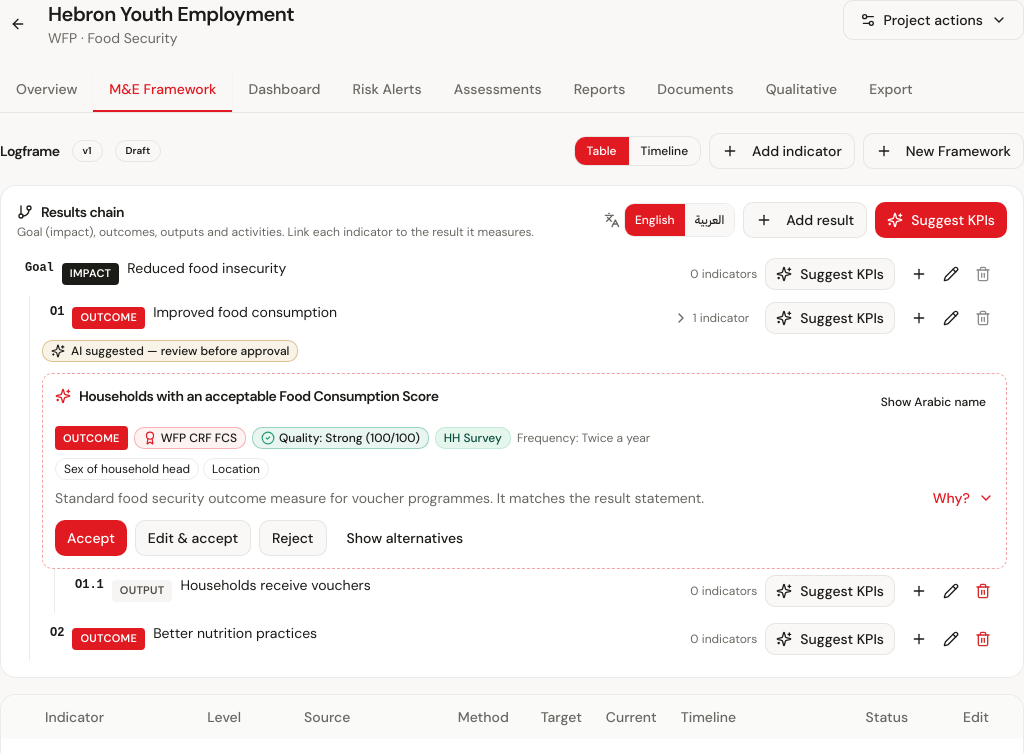
Test: Project page: the KPI Assistant on an archived project › a Suggest KPIs request refused with 409 project_archived shows the archived message under the result
This screenshot has width=1024, height=753.
Expected: the heading "Hebron Youth Employment" is shown, [48,0,294,28]
Click the button with aria-label "Suggest KPIs for O2" at (830, 639), box [765,623,895,655]
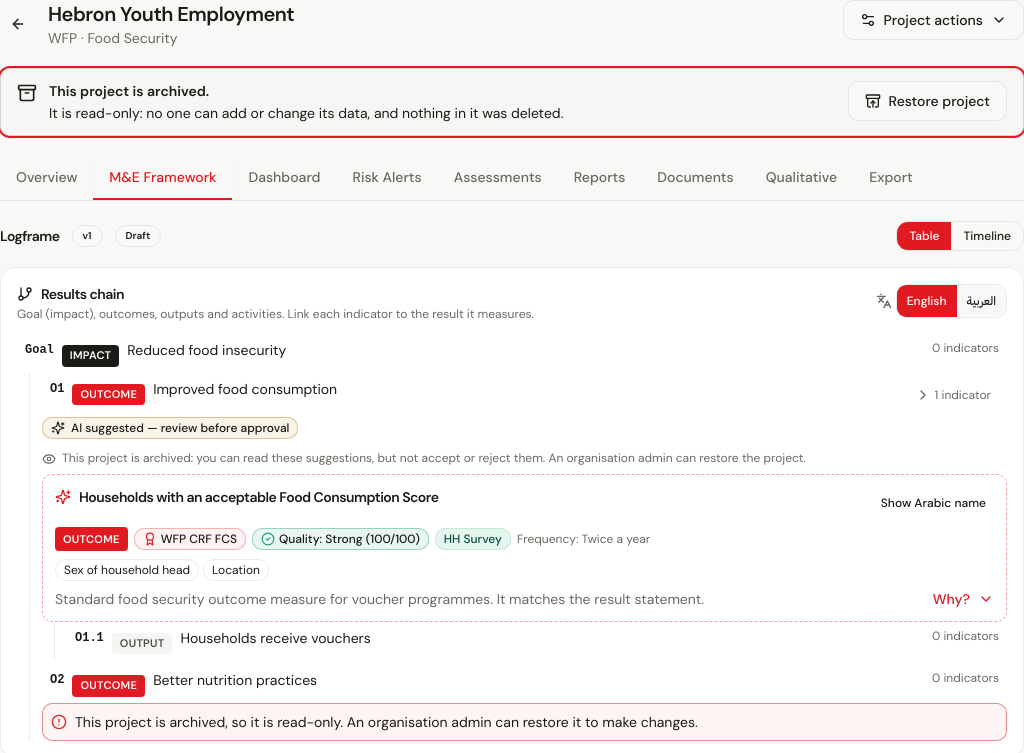
Expected: the 2nd message is shown, [42,703,1007,741]
Expected: the text "This project is archived." is shown, [49,82,209,100]
